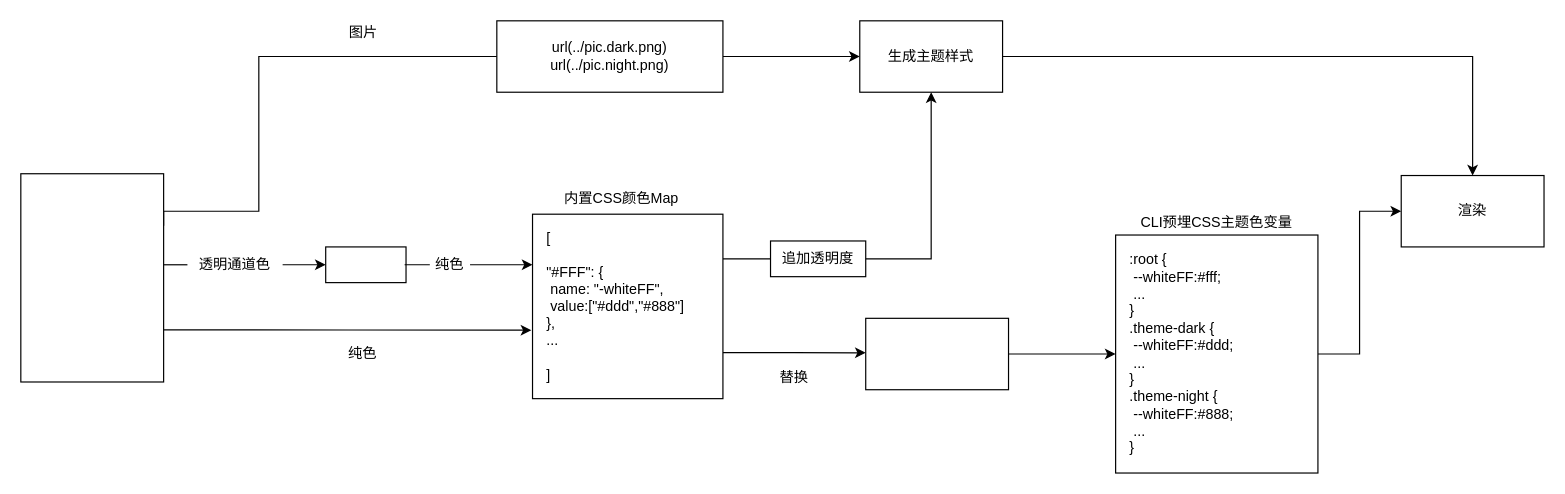
The diagram is 1565 pixels wide and 494 high, and some of its shapes have lost their labels. The box of each missing label's shape, as (x1, y1, x2, y2) in pixels:
CSS颜色、 需要适配的图片: (20, 173, 164, 382)
剥离透明度: (325, 246, 406, 283)
带有CSS颜色变量的样式: (865, 317, 1009, 390)
